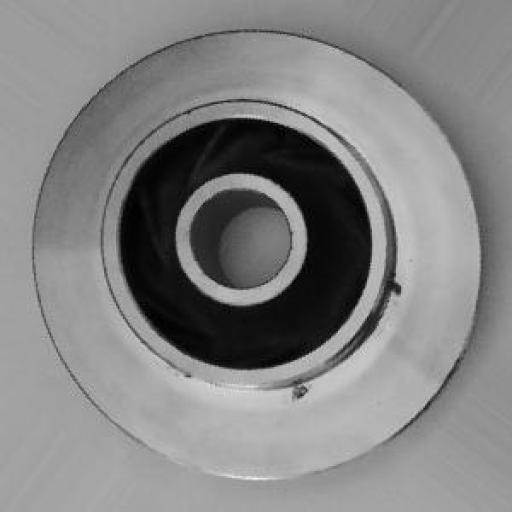defect: (278, 272, 420, 424)
